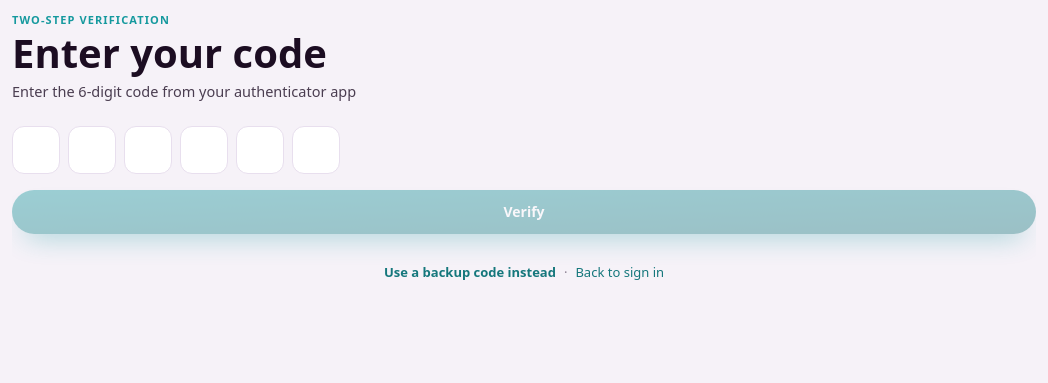
Test: CodeForm › a wrong code shows the error and clears the input
Click the field named "Digit 1 of 6".
click(36, 150)  # box x1=12 y1=126 x2=60 y2=174
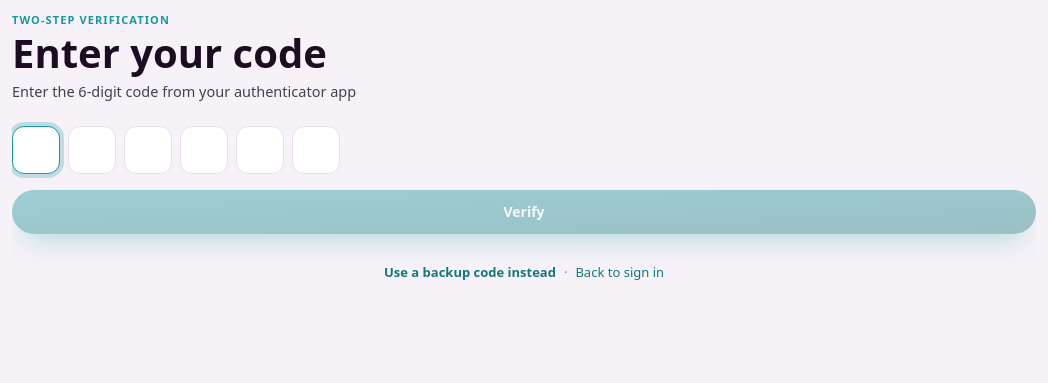
Type keys "000000"
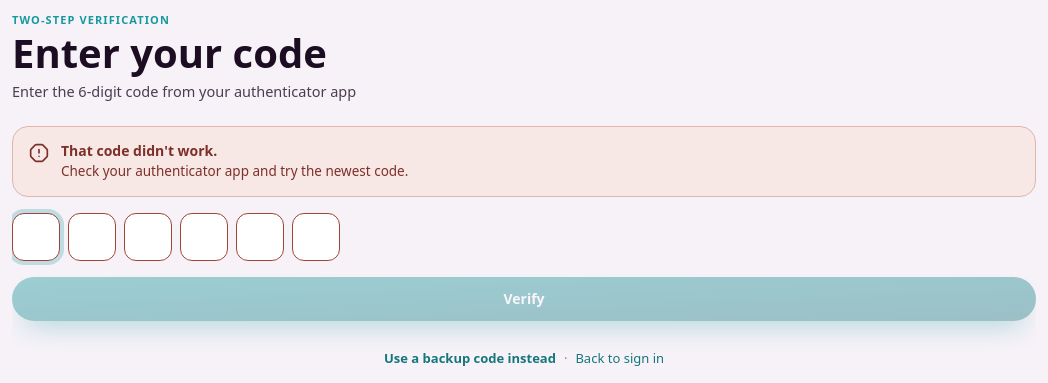
Expected: the message shows "That code didn't work.", x1=61 y1=141 x2=217 y2=160
